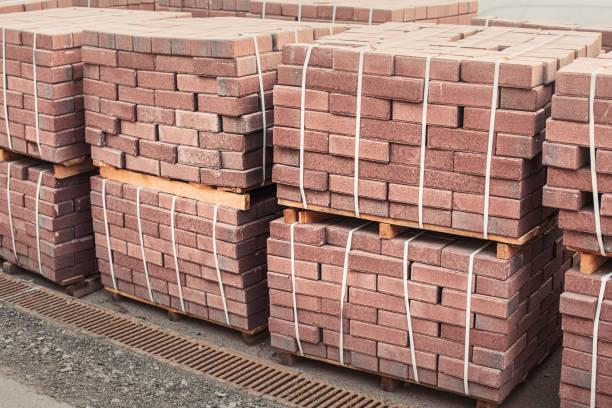Bricks: (112, 249, 189, 284), (436, 373, 502, 405), (442, 320, 508, 351), (110, 200, 182, 227), (187, 274, 249, 303), (441, 354, 502, 383), (381, 340, 438, 371), (379, 309, 436, 338), (180, 215, 240, 242), (329, 171, 390, 197), (468, 108, 535, 131), (393, 183, 455, 207), (459, 154, 515, 180), (323, 330, 379, 356), (353, 321, 411, 345), (238, 52, 280, 85), (408, 337, 468, 360), (268, 313, 320, 339), (280, 110, 344, 131), (353, 76, 420, 96), (454, 215, 521, 235), (324, 299, 377, 323), (388, 205, 451, 225), (160, 290, 210, 315), (391, 146, 452, 166), (447, 253, 504, 274), (335, 196, 394, 216), (16, 253, 58, 281), (365, 122, 423, 142), (287, 70, 344, 90), (426, 86, 489, 104), (549, 170, 612, 188), (565, 227, 612, 251), (328, 137, 384, 157), (276, 84, 324, 107), (564, 315, 612, 338), (178, 243, 220, 269), (550, 125, 610, 143), (383, 242, 434, 263), (210, 307, 251, 333), (375, 279, 431, 298), (398, 103, 457, 121), (132, 281, 171, 308), (457, 198, 518, 215), (243, 72, 280, 100), (21, 242, 58, 270), (333, 94, 380, 116), (563, 365, 612, 386), (439, 295, 503, 311), (236, 89, 270, 119), (335, 53, 395, 70), (125, 243, 164, 269), (270, 130, 326, 148), (241, 131, 278, 158), (167, 284, 212, 306), (272, 244, 342, 258), (14, 229, 49, 257), (400, 62, 461, 78), (420, 171, 471, 190), (273, 293, 321, 313), (355, 291, 411, 308), (294, 313, 350, 330), (467, 66, 529, 81), (560, 72, 611, 90), (430, 130, 487, 146), (326, 229, 383, 245), (176, 111, 219, 132), (196, 233, 235, 256), (212, 294, 251, 317), (55, 260, 97, 281), (307, 154, 353, 173), (9, 76, 55, 95), (143, 231, 177, 256), (565, 355, 612, 373), (344, 257, 403, 271), (472, 348, 505, 373), (54, 234, 93, 255), (200, 131, 243, 150), (276, 168, 319, 187), (9, 110, 57, 127), (269, 257, 314, 275), (242, 165, 273, 191), (132, 270, 167, 293), (164, 221, 196, 246), (295, 280, 342, 297), (411, 274, 472, 287), (242, 147, 275, 171), (126, 215, 162, 237), (110, 224, 143, 247), (98, 260, 134, 281), (164, 256, 198, 278), (95, 234, 129, 256), (53, 210, 92, 229), (0, 201, 37, 221), (279, 188, 328, 203), (563, 337, 612, 352), (243, 106, 273, 130), (275, 224, 315, 242), (345, 350, 381, 370), (564, 213, 612, 228), (53, 140, 89, 160), (177, 75, 216, 93), (566, 383, 612, 398), (568, 273, 612, 288), (364, 163, 411, 177), (201, 270, 242, 286), (286, 48, 329, 63), (215, 253, 243, 276), (325, 270, 374, 283), (236, 37, 273, 54), (7, 179, 51, 193), (56, 77, 85, 98), (162, 125, 194, 144), (561, 296, 596, 313), (92, 208, 125, 226), (547, 187, 580, 205), (499, 137, 533, 154), (25, 224, 55, 243), (55, 112, 86, 130), (138, 73, 175, 88), (104, 99, 133, 118), (545, 148, 571, 169), (200, 95, 230, 113), (191, 60, 240, 71), (140, 107, 171, 124), (124, 185, 159, 200), (182, 149, 219, 163), (415, 307, 462, 318), (507, 92, 534, 111), (164, 163, 196, 179), (88, 82, 122, 97), (125, 118, 155, 135), (90, 116, 118, 134), (200, 207, 236, 221), (558, 98, 586, 116), (56, 128, 84, 146), (91, 150, 122, 166), (207, 171, 245, 184), (273, 306, 308, 320), (486, 181, 523, 194), (120, 88, 152, 103), (162, 196, 194, 211), (0, 214, 28, 231), (96, 177, 122, 195), (56, 187, 92, 200), (101, 68, 132, 83), (49, 250, 78, 266), (141, 143, 174, 157), (49, 48, 82, 62), (53, 195, 76, 215), (412, 368, 437, 386), (268, 272, 292, 290), (50, 64, 74, 82), (119, 55, 152, 68), (2, 235, 27, 252), (159, 55, 189, 69), (376, 359, 411, 371), (160, 94, 195, 105), (112, 137, 136, 153), (97, 33, 117, 52), (128, 159, 157, 172), (21, 33, 52, 45), (85, 49, 113, 62), (482, 282, 510, 295), (27, 198, 53, 212), (57, 95, 75, 115), (135, 36, 152, 57), (596, 192, 612, 214), (24, 51, 53, 63), (26, 99, 57, 110), (27, 168, 55, 180), (223, 119, 248, 132), (81, 97, 102, 112), (0, 93, 24, 106), (91, 221, 113, 235), (190, 40, 207, 58), (594, 146, 612, 163), (218, 79, 238, 94), (1, 124, 25, 136), (54, 227, 74, 241), (53, 37, 73, 51), (26, 63, 49, 75), (594, 103, 612, 118), (172, 39, 191, 53), (209, 43, 230, 55), (1, 47, 22, 59), (4, 138, 29, 148), (26, 132, 53, 141), (0, 29, 18, 42), (95, 247, 116, 258), (277, 151, 296, 163), (154, 37, 169, 52), (603, 300, 612, 324), (40, 217, 64, 226), (0, 63, 21, 73), (1, 188, 20, 199), (481, 320, 503, 329), (83, 65, 98, 78), (83, 32, 98, 44), (118, 36, 130, 51), (88, 136, 102, 147), (92, 195, 109, 204), (224, 154, 236, 166), (6, 166, 23, 174), (42, 146, 53, 157)
